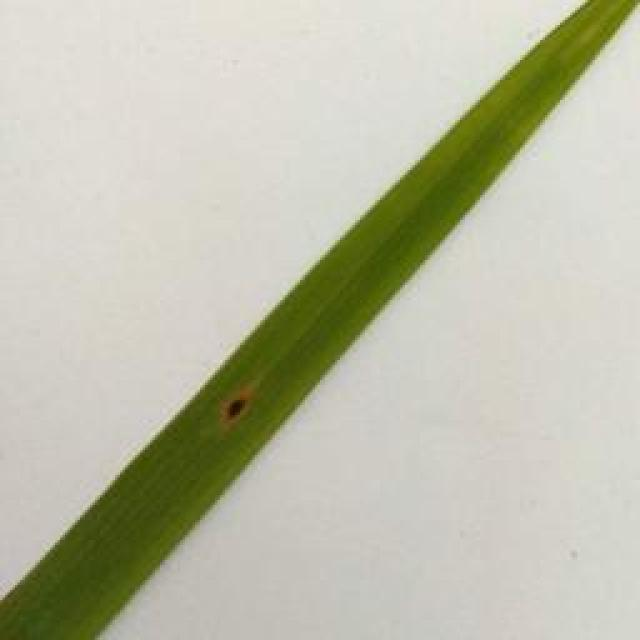Brown_Spot: (212, 388, 264, 439)
